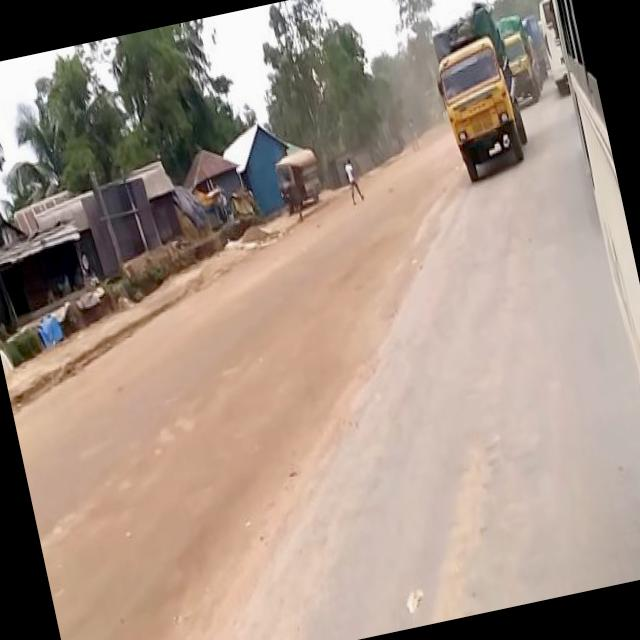bus: (536, 0, 640, 567), (533, 0, 569, 89)
motorcycle: (270, 143, 328, 215)
truck: (421, 0, 535, 184), (494, 7, 546, 104)
